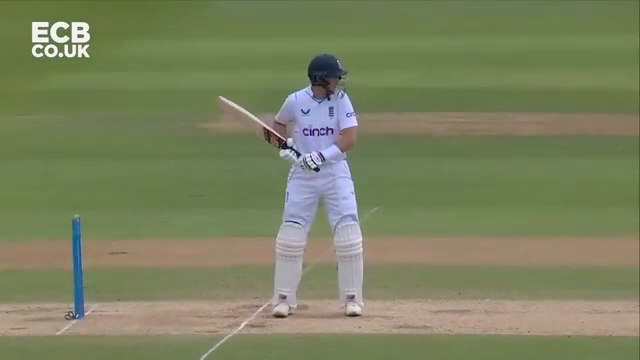batsman: (218, 54, 367, 318)
